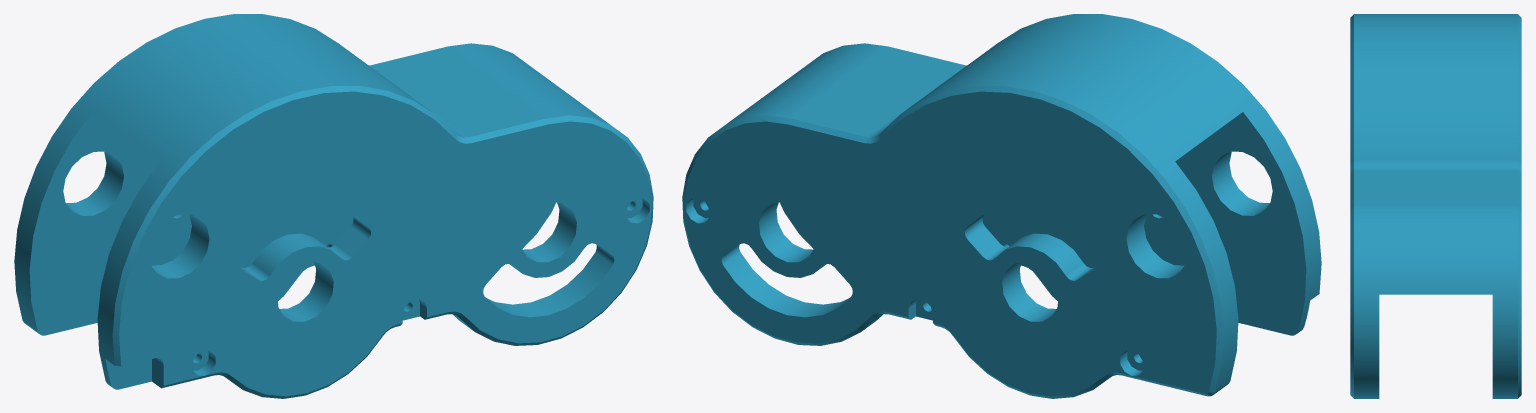
File: elbow_middle_link.dae
3 views of the same model, side by side, from view 1: azimuth 30°, elevation 25°; view 2: azimuth 150°, elevation 25°; view 3: azimuth 270°, elevation 25° (orthographic). The views are drawn at different scales.
Visible parts, largest first — view 1: FBXASC227FBXASC130FBXASC189FBXASC227FBXASC131FBXASC170FBXASC; view 2: FBXASC227FBXASC130FBXASC189FBXASC227FBXASC131FBXASC170FBXASC; view 3: FBXASC227FBXASC130FBXASC189FBXASC227FBXASC131FBXASC170FBXASC.
Part boxes in pixels (<box>): FBXASC227FBXASC130FBXASC189FBXASC227FBXASC131FBXASC170FBXASC: <box>14,14,653,398</box>; FBXASC227FBXASC130FBXASC189FBXASC227FBXASC131FBXASC170FBXASC: <box>682,14,1321,398</box>; FBXASC227FBXASC130FBXASC189FBXASC227FBXASC131FBXASC170FBXASC: <box>1350,14,1521,398</box>.
Bounding box in the file's own units: 0.1335 × 0.044 × 0.0734.
